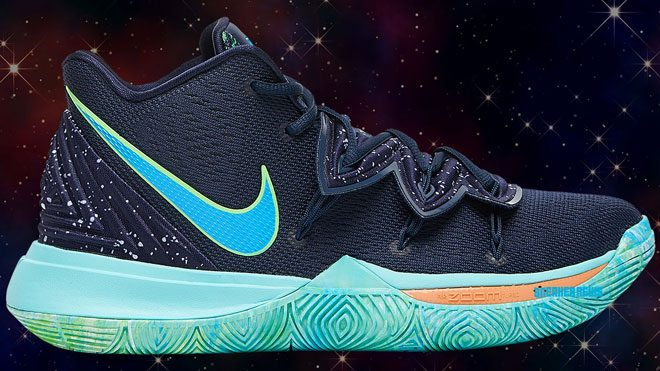nike: (69, 89, 284, 259)
